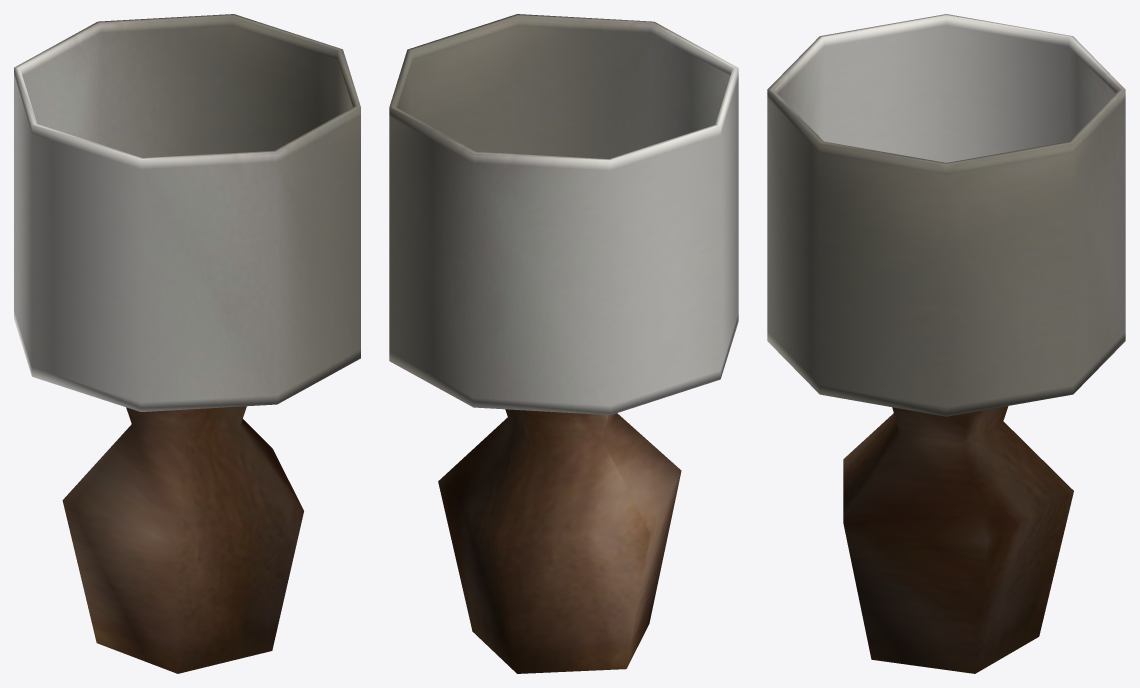
File: ps1_style_lamp.glb
3 renders of one model, left to right at view 1: azimuth 30°, elevation 25°; view 2: azimuth 150°, elevation 25°; view 3: azimuth 270°, elevation 25°, orthographic.
Parts seen in each view (by area): view 1: Lamp Paper, Lamp; view 2: Lamp Paper, Lamp; view 3: Lamp Paper, Lamp.
Part boxes in pixels (x1,y1,x2,y2): Lamp Paper: [14, 14, 360, 411]; Lamp: [62, 406, 303, 673]; Lamp Paper: [389, 14, 738, 415]; Lamp: [438, 409, 681, 673]; Lamp Paper: [767, 14, 1125, 416]; Lamp: [843, 406, 1073, 673].
Bounding box in the file's own units: 0.3654 × 0.615 × 0.3654.
Materials: 1 (1 with a texture image).
